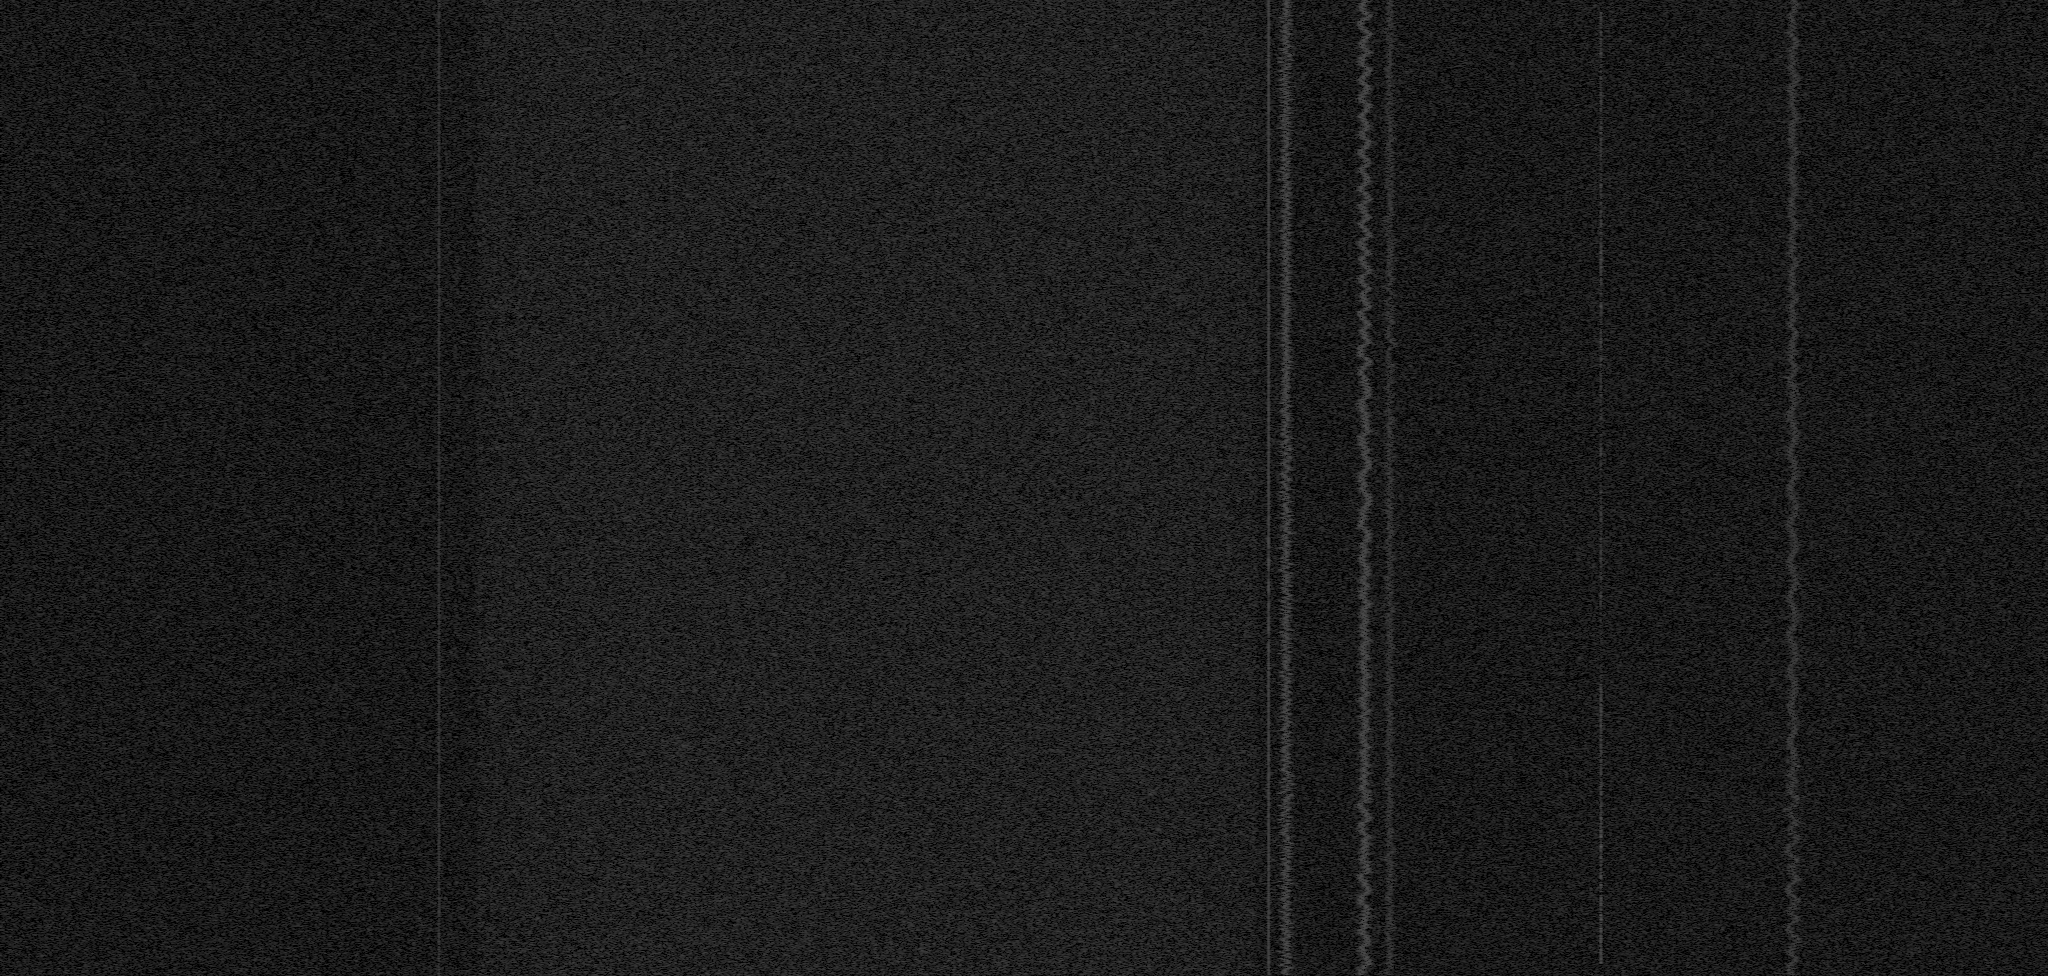wv_am: (1266, 0, 1271, 975), (438, 0, 441, 975)
wv_dvbt_8kfft: (469, 0, 1262, 976)
wv_lsb: (1597, 645, 1604, 894), (1597, 10, 1604, 206), (1597, 206, 1604, 401), (1597, 473, 1604, 615), (1597, 895, 1604, 966), (1597, 423, 1604, 472), (1599, 617, 1603, 644), (1599, 408, 1603, 422), (1599, 402, 1603, 408)
wv_wbfm: (1273, 0, 1298, 975), (1353, 0, 1377, 975), (1782, 0, 1804, 975), (1379, 0, 1400, 975)
